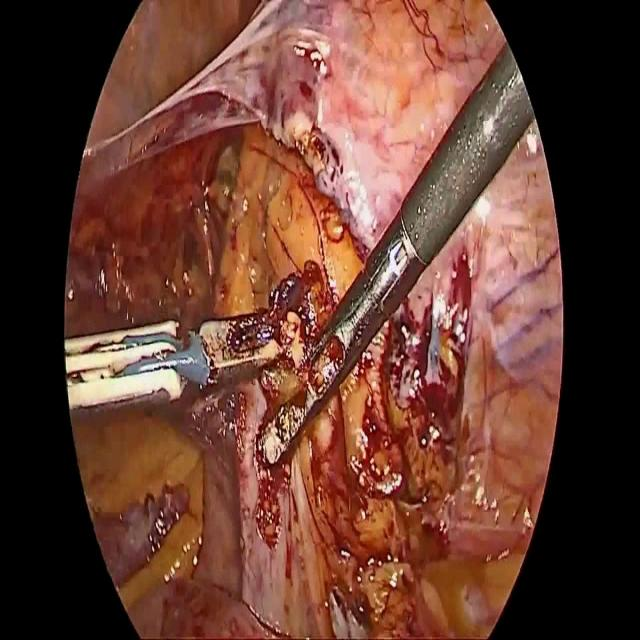surgical-area: (64, 0, 563, 639)
surgical-tool: (266, 39, 535, 460), (64, 312, 278, 414)
